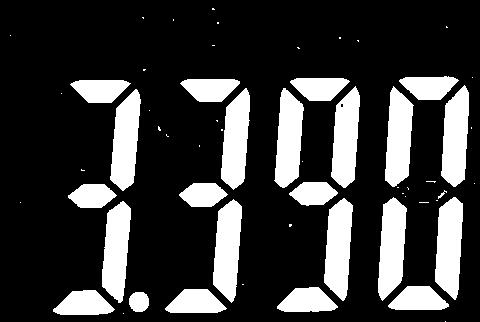0: (377, 79, 472, 313)
3: (51, 74, 142, 317), (164, 73, 251, 316)
9: (273, 75, 363, 311)
dot: (126, 288, 156, 314)
